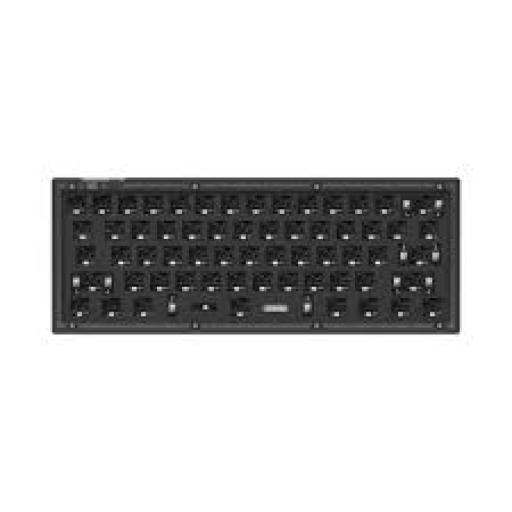keyboard: (55, 177, 457, 330)
